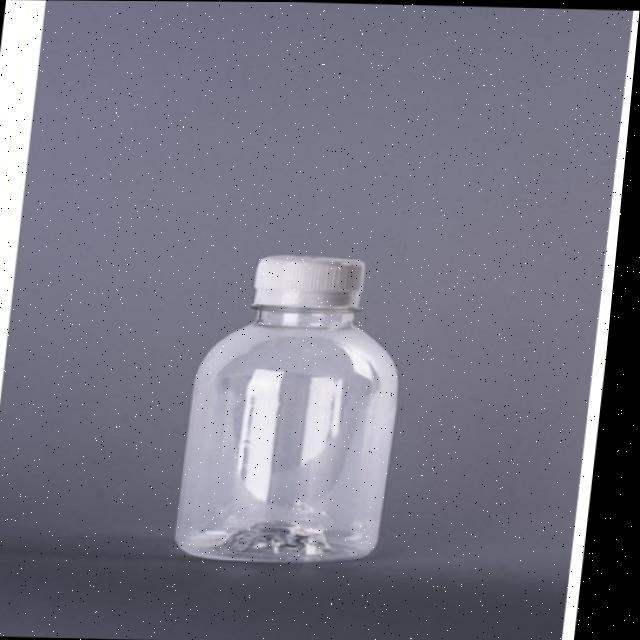bottle: (147, 218, 449, 589)
